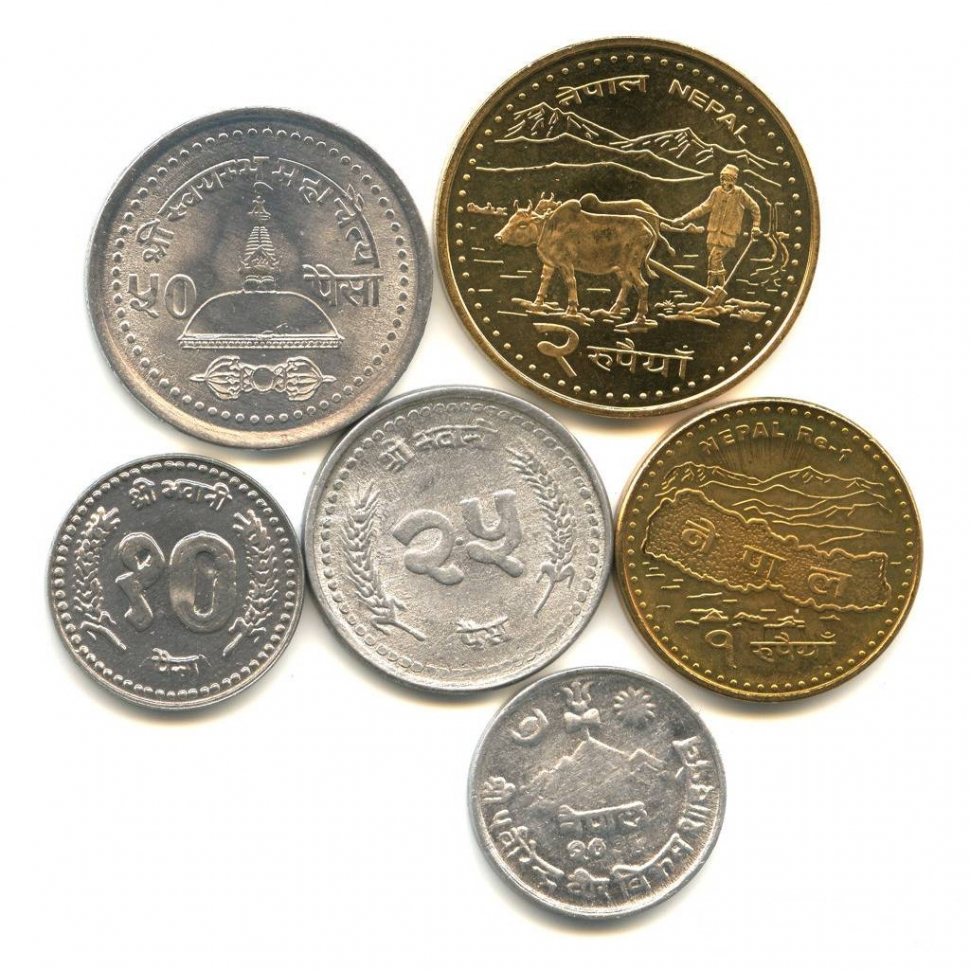coin: (440, 35, 820, 423), (92, 102, 438, 476), (297, 379, 616, 693), (611, 393, 929, 699), (41, 449, 309, 715), (467, 665, 727, 921)
